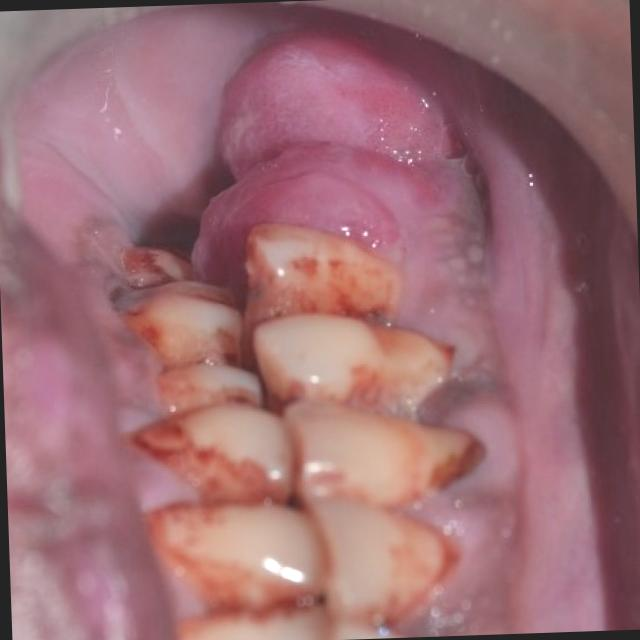Cancer: (180, 20, 495, 293), (61, 202, 148, 322)
